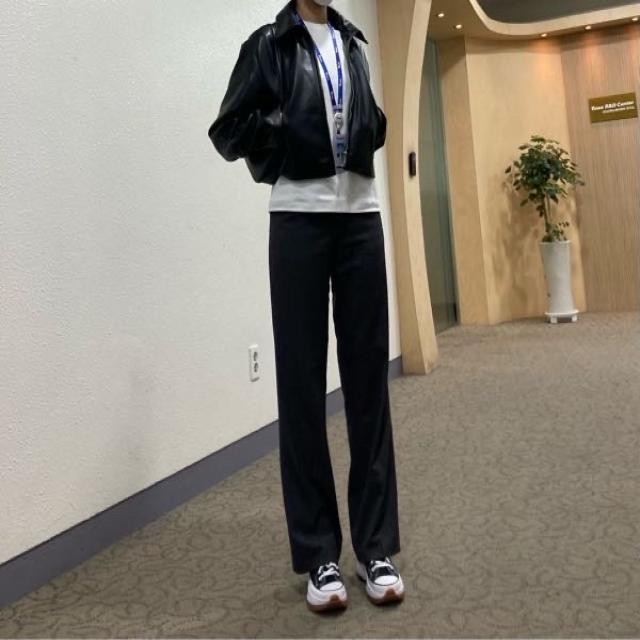jacket: (210, 1, 388, 185)
slacks: (269, 205, 404, 572)
